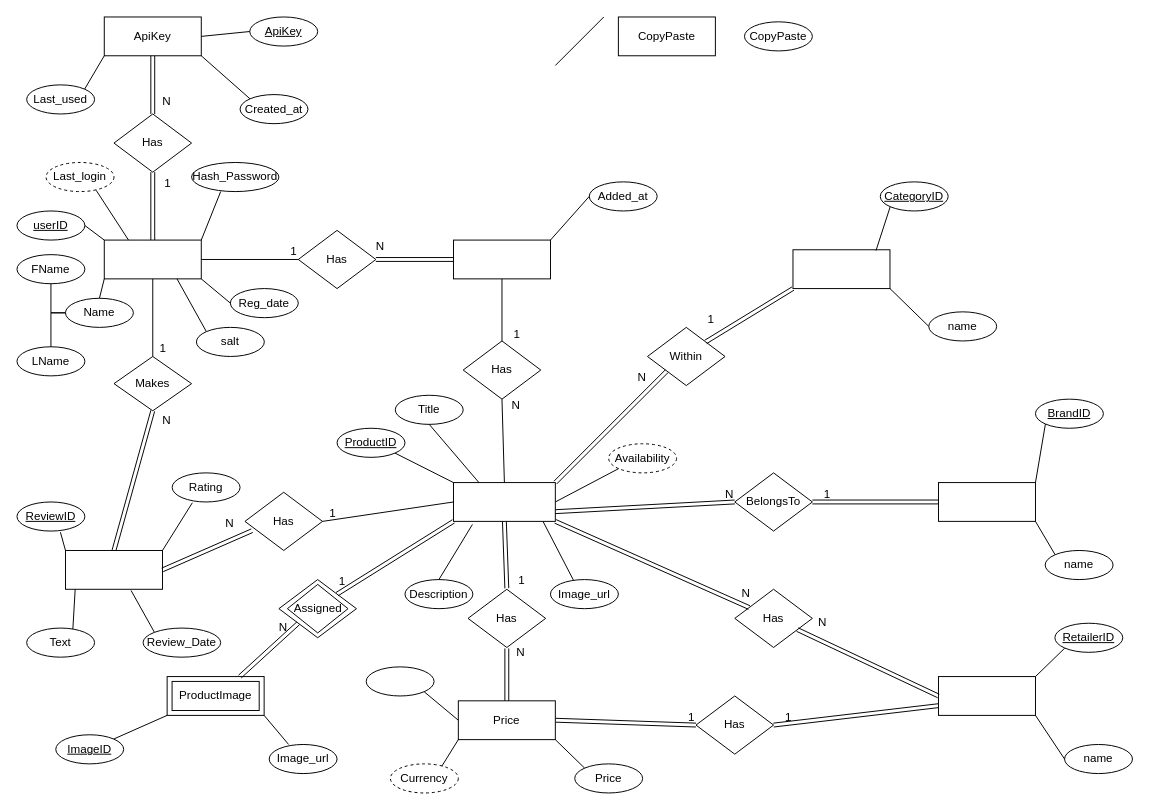
Some shapes in this 1149 by 810 pixel diagram are drawn without their labels. The centre of each missing label's shape, as x and y in pixels:
Brand: point 986,501
Category: point 841,269
PriceID: point 399,681
Product: point 504,501
Retailer: point 986,695
Review: point 113,569
User: point 152,259
Wishlist: point 501,259
